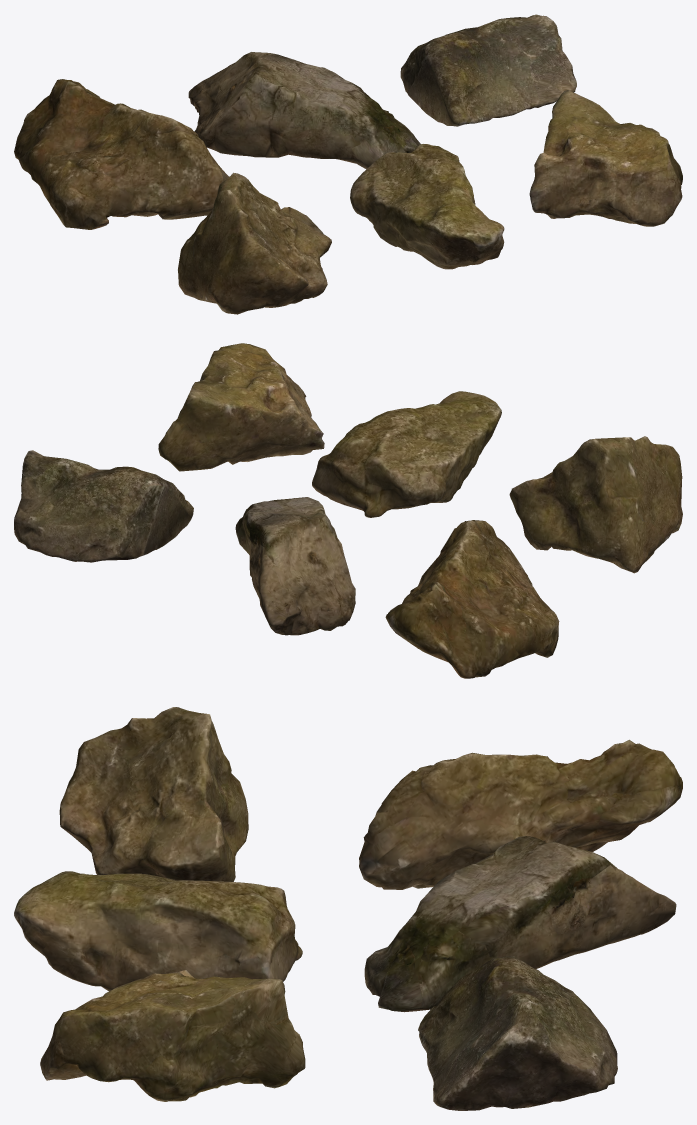
Rendered from rock_moss_set_01.glb.
3 views of the same model, one above another, from view 1: azimuth 30°, elevation 25°; view 2: azimuth 150°, elevation 25°; view 3: azimuth 270°, elevation 25° (orthographic). The views are drawn at different scales.
Visible parts, largest first — view 1: rock_moss_set_01_rock01, rock_moss_set_01_rock02, rock_moss_set_01_rock06, rock_moss_set_01_rock04, rock_moss_set_01_rock03, rock_moss_set_01_rock05; view 2: rock_moss_set_01_rock04, rock_moss_set_01_rock01, rock_moss_set_01_rock05, rock_moss_set_01_rock03, rock_moss_set_01_rock06, rock_moss_set_01_rock02; view 3: rock_moss_set_01_rock01, rock_moss_set_01_rock02, rock_moss_set_01_rock05, rock_moss_set_01_rock06, rock_moss_set_01_rock04, rock_moss_set_01_rock03.
Boxes of the visible parts, x1,y1,x2,y2 form: rock_moss_set_01_rock01: (14, 79, 228, 229); rock_moss_set_01_rock02: (188, 52, 420, 169); rock_moss_set_01_rock06: (529, 90, 682, 226); rock_moss_set_01_rock04: (178, 172, 331, 314); rock_moss_set_01_rock03: (400, 14, 576, 126); rock_moss_set_01_rock05: (350, 144, 504, 269); rock_moss_set_01_rock04: (509, 436, 682, 573); rock_moss_set_01_rock01: (385, 520, 559, 678); rock_moss_set_01_rock05: (312, 391, 501, 517); rock_moss_set_01_rock03: (14, 450, 193, 562); rock_moss_set_01_rock06: (158, 343, 324, 471); rock_moss_set_01_rock02: (235, 497, 355, 635); rock_moss_set_01_rock01: (359, 739, 682, 889); rock_moss_set_01_rock02: (364, 836, 676, 1012); rock_moss_set_01_rock05: (14, 871, 302, 991); rock_moss_set_01_rock06: (40, 970, 305, 1101); rock_moss_set_01_rock04: (59, 707, 248, 881); rock_moss_set_01_rock03: (418, 956, 617, 1110).
Bounding box in the file's own units: 8 × 1.76 × 6.94.
Materials: 1 (1 with a texture image).
